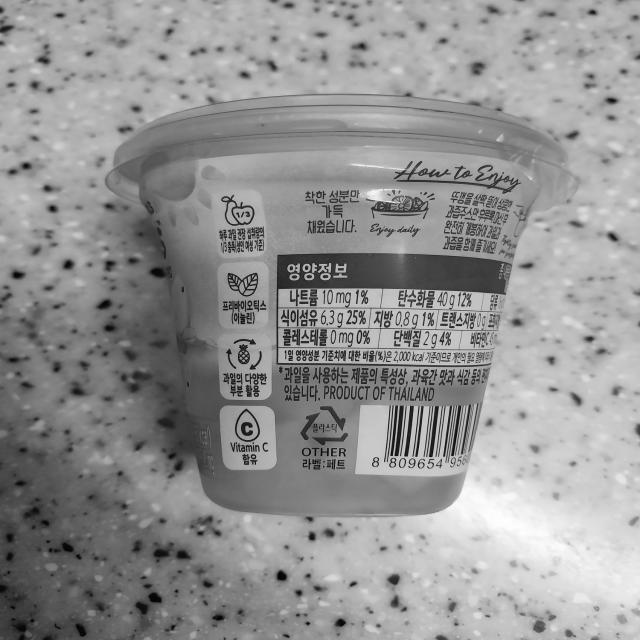Nutrition Label: (268, 248, 519, 374)
